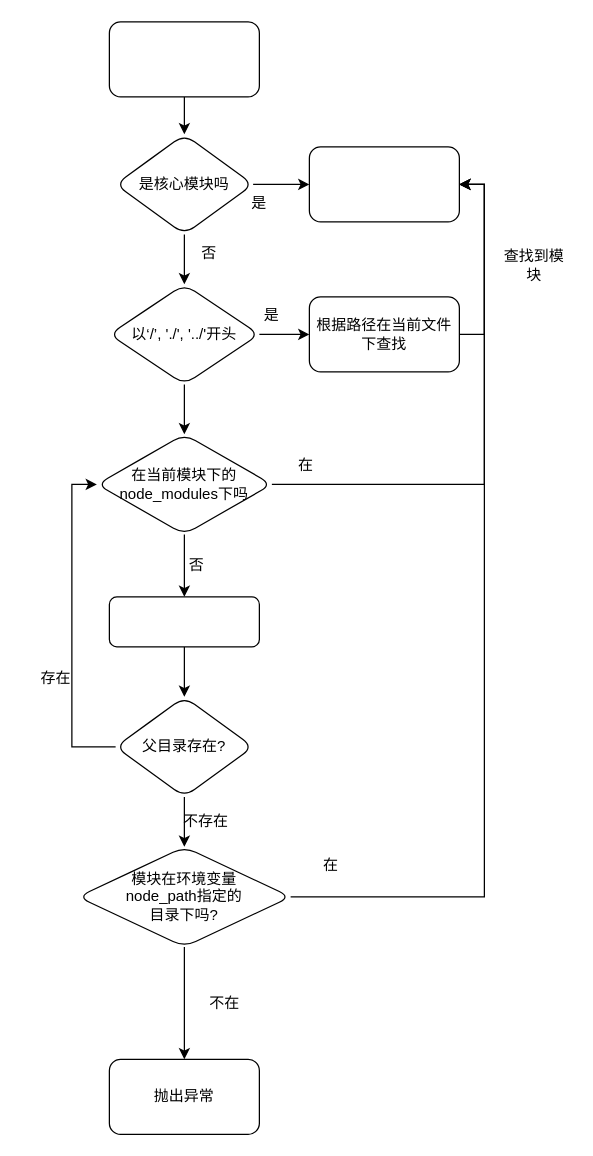
The diagram is 593 pixels wide and 1156 high, and some of its shapes have lost their labels. The shapes that lost their labels are listed below. From the top down, each one's centre as x and y in pixels, then its label:
At point 183,59: "require语句".
At point 383,184: "返回模块".
At point 183,621: "尝试进去父目录".
